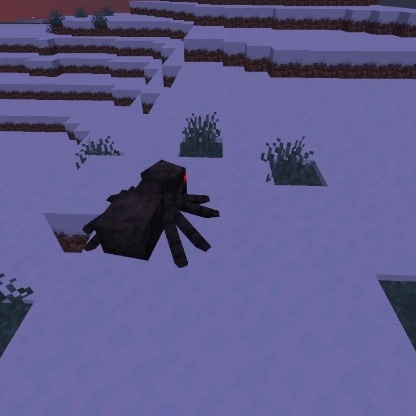spider: (79, 157, 224, 270)
